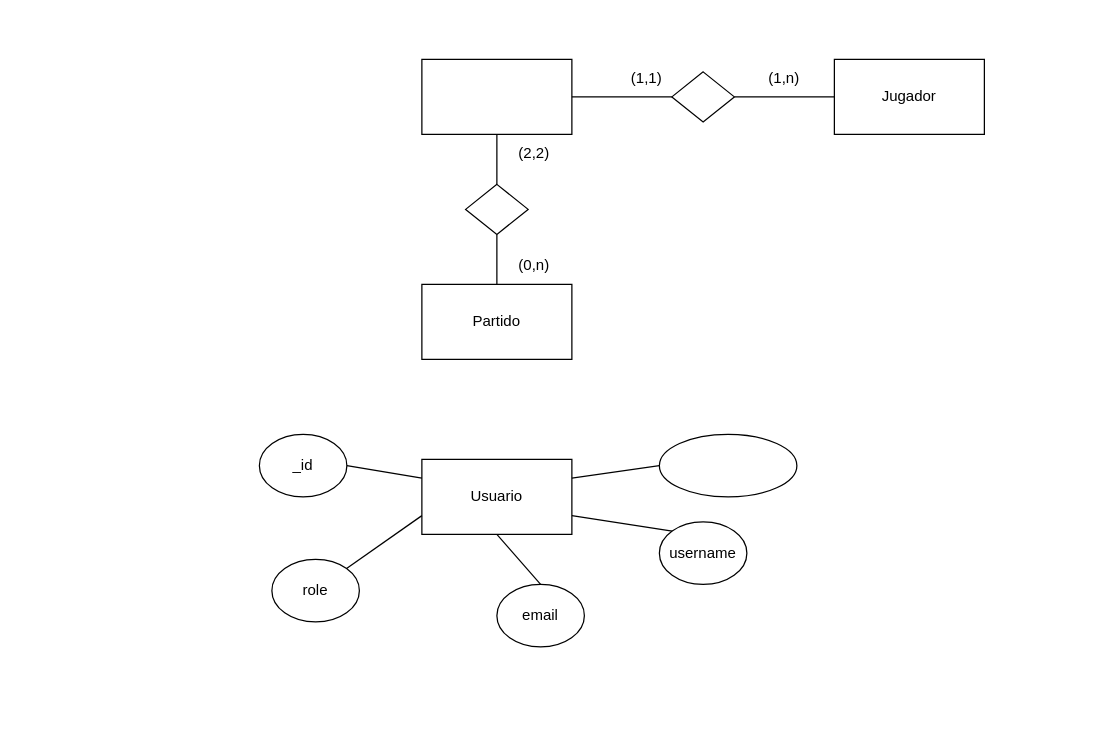
The diagram is 1106 pixels wide and 744 high, and some of its shapes have lost their labels. The centre of each missing label's shape, as x and y in pixels:
Equipo: point 496,96
password(hashed): point 727,465
